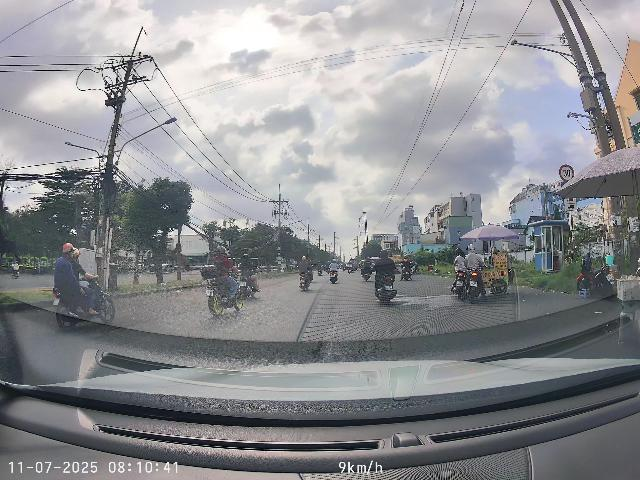127-toc-do-toi-da-30: (558, 164, 574, 180)
